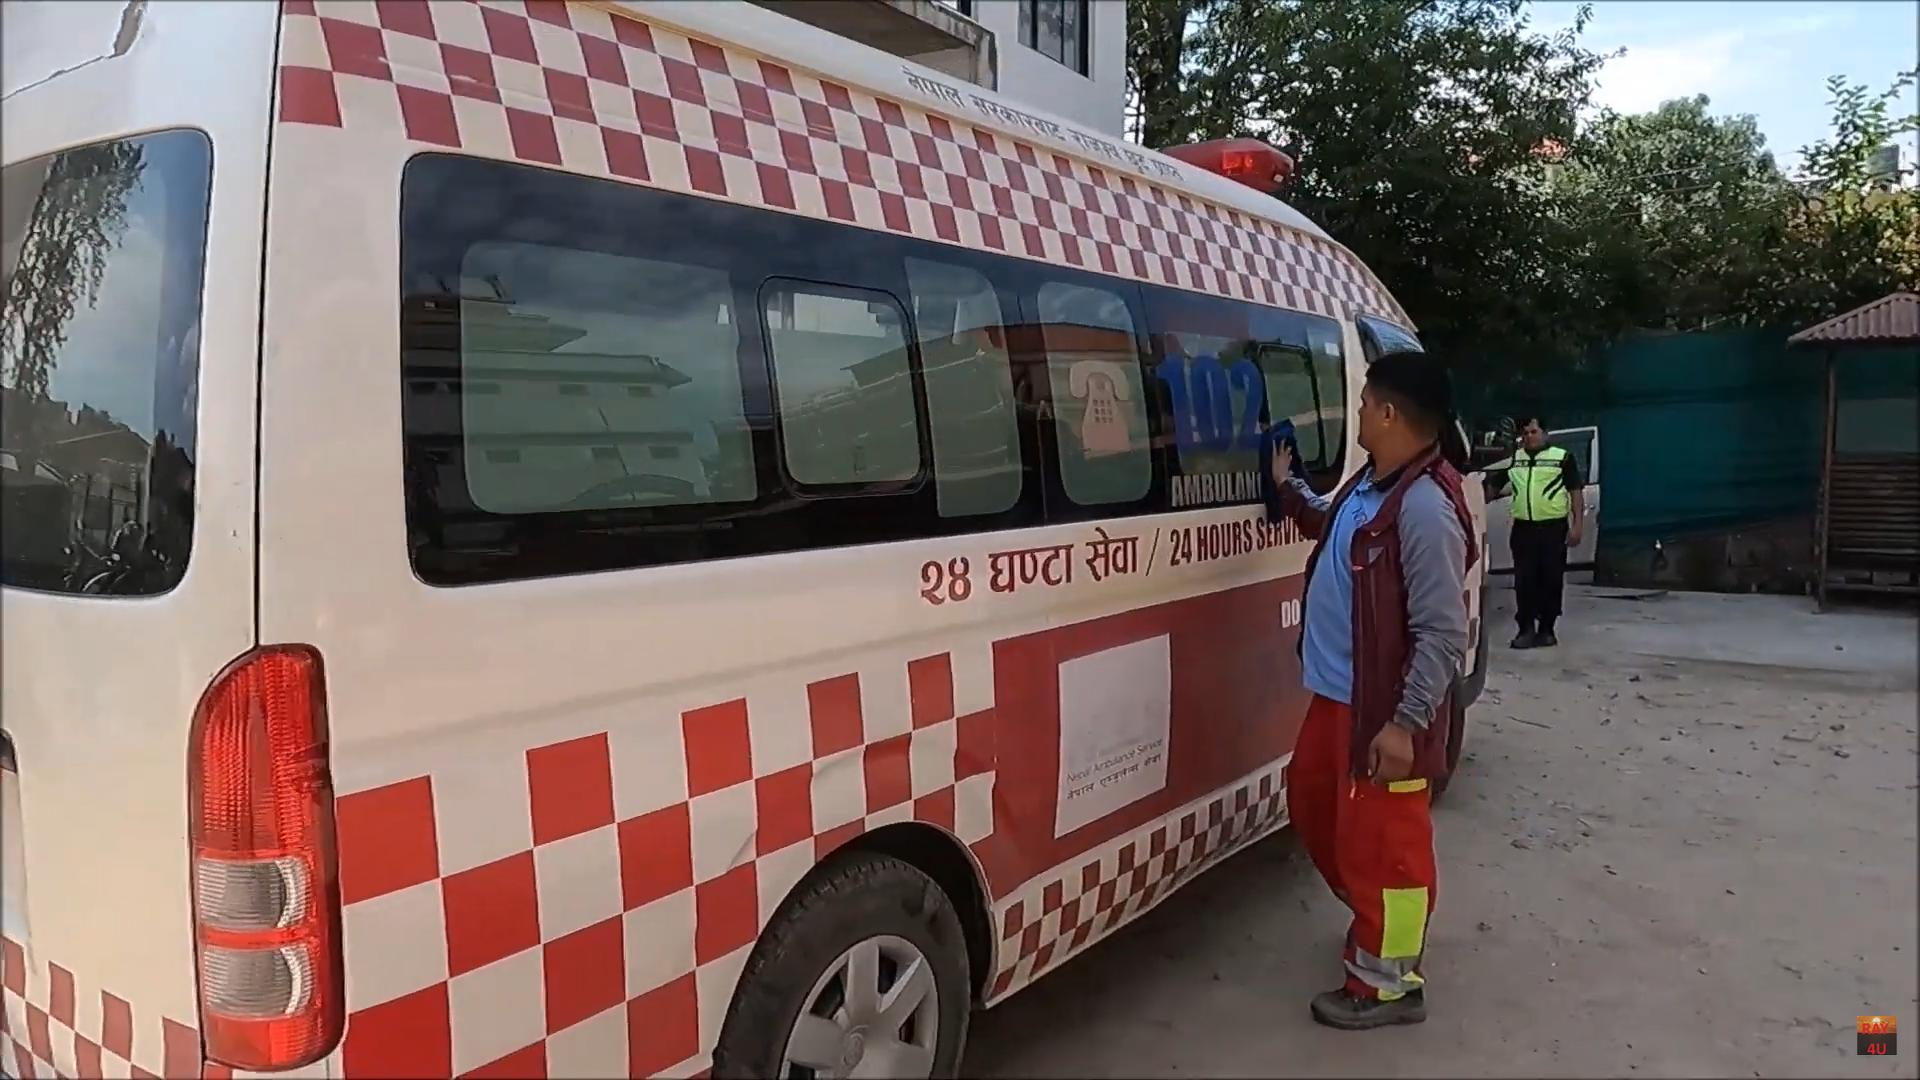ambulance: (17, 0, 1516, 1080)
